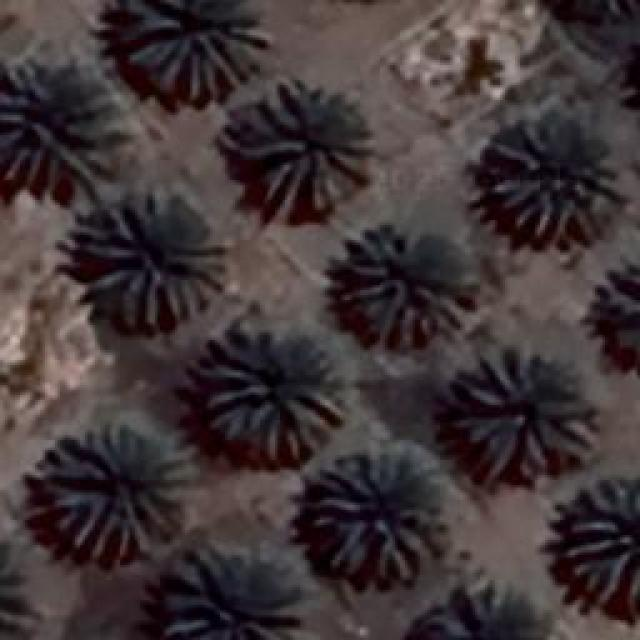PalmTree: (100, 60, 489, 610), (16, 107, 100, 587), (74, 192, 228, 326), (39, 422, 182, 560), (200, 322, 342, 460), (452, 350, 600, 480), (228, 80, 370, 215), (0, 59, 135, 192), (310, 450, 440, 588), (484, 115, 618, 243), (344, 220, 478, 345), (122, 0, 267, 102), (158, 544, 302, 638), (562, 470, 636, 608), (600, 266, 640, 352), (540, 0, 640, 22)
